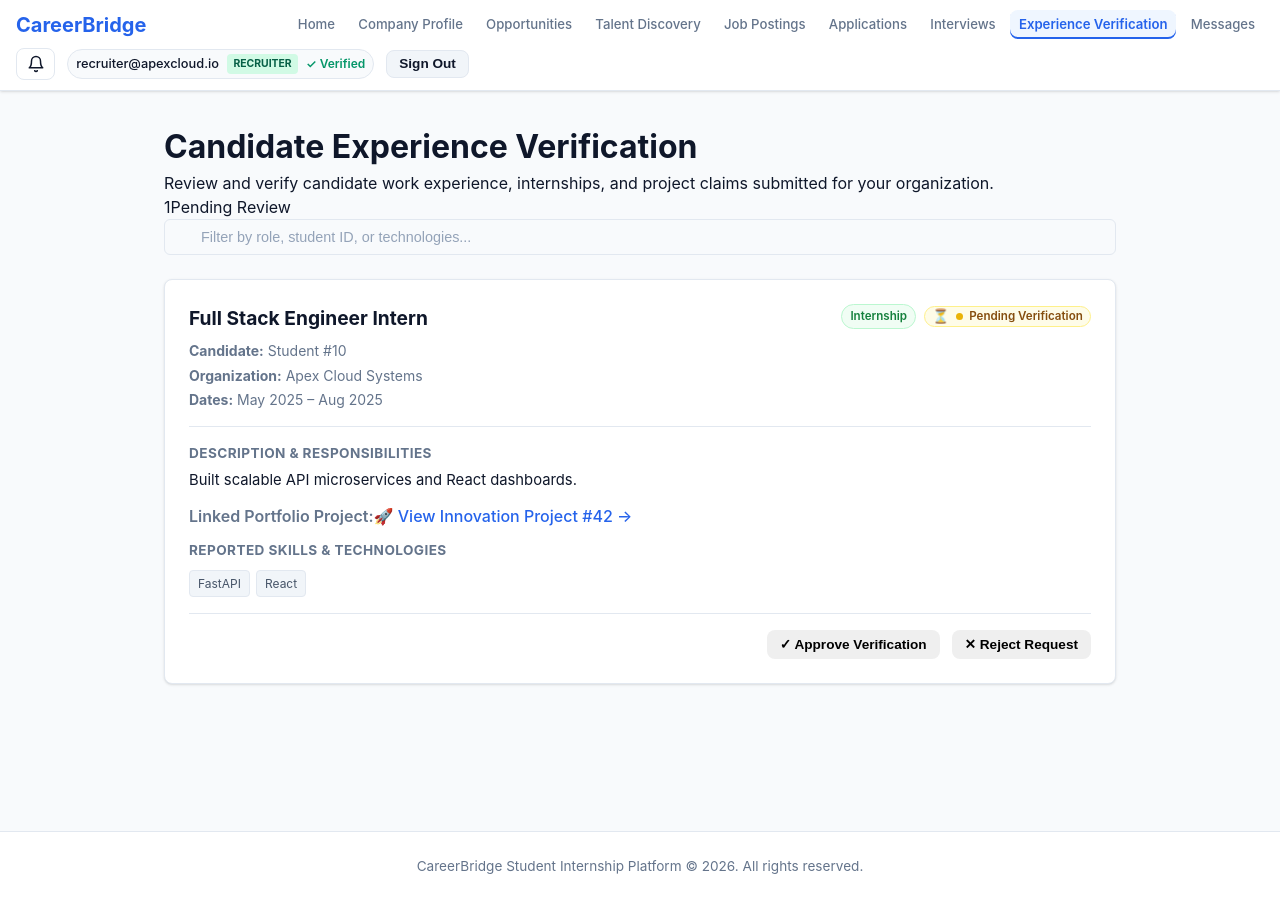
Test case: Verified Experience Full End-to-End Integration Flow (Phase 5) › Flow 2: Recruiter Verification Queue & Decision Workflows › processes rejection with audit notes and clears from queue
This screenshot has width=1280, height=900.
Expected: the heading "Full Stack Engineer Intern" is shown, x1=189 y1=304 x2=428 y2=332
Step 1. Click the button with test id "reject-btn-203" → (1021, 644), box x1=952 y1=630 x2=1091 y2=659
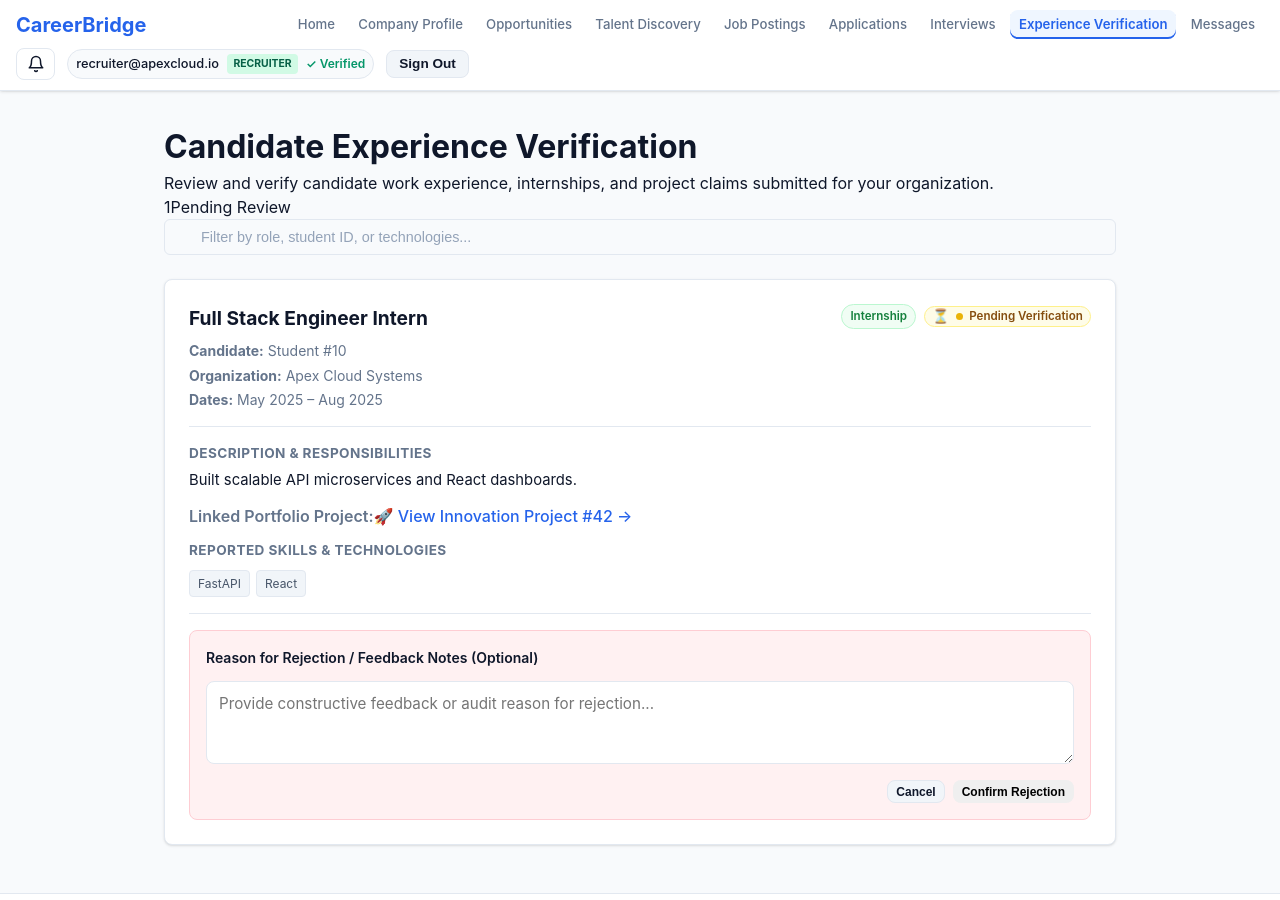
Now the element with test id "rejection-box-203" is shown, box x1=189 y1=630 x2=1091 y2=820
Step 2. Replace the text in the text box labelled "Reason for Rejection / Feedback Notes (Optional)" with "Employment records indicate student finished in April, not August." → (640, 723), box x1=206 y1=681 x2=1074 y2=764
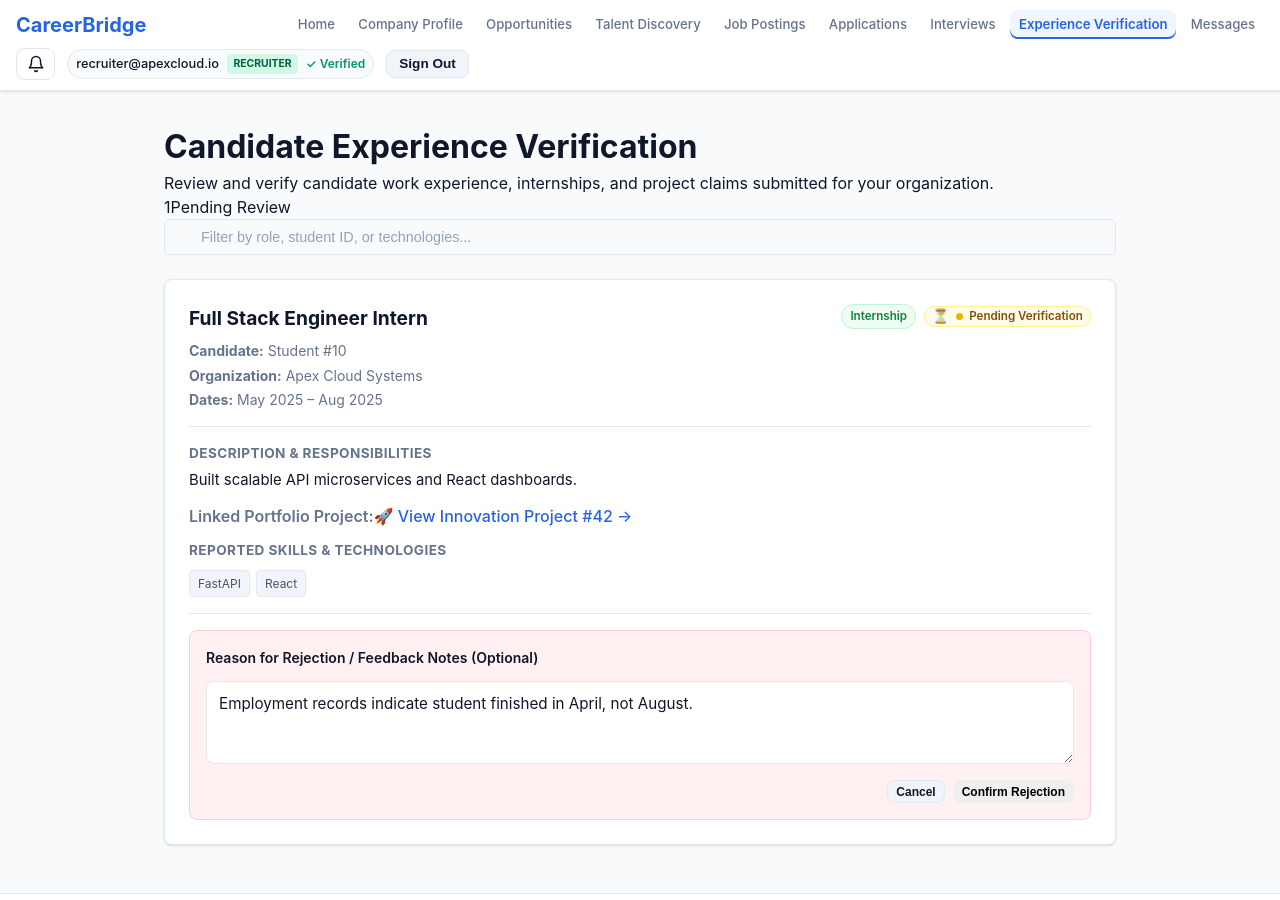
Step 3. Click the button with test id "confirm-reject-btn-203" → (1013, 792), box x1=953 y1=780 x2=1074 y2=803
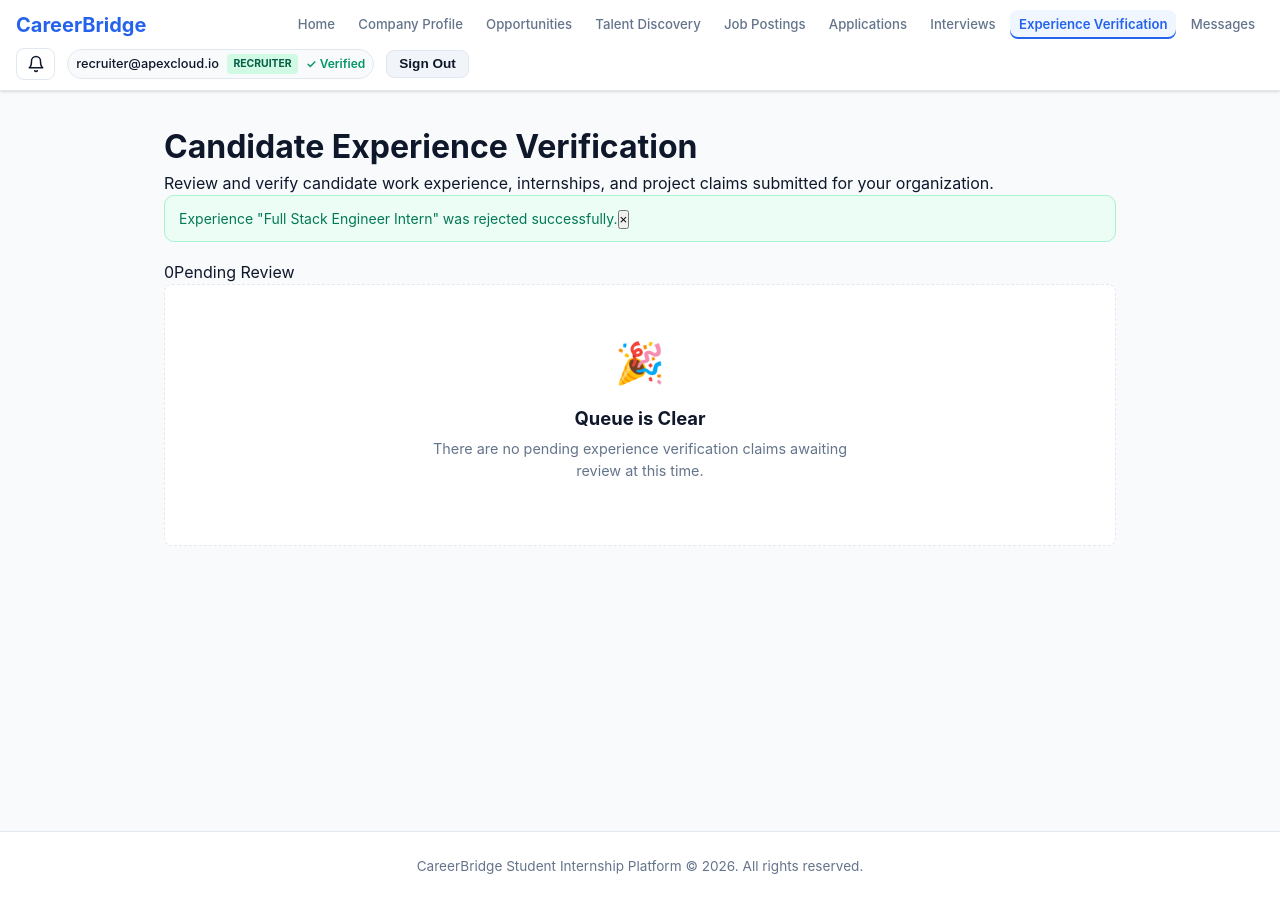
Now the element with test id "verification-request-card-203" is gone
Now the text "Experience \"Full Stack Engineer Intern\" was rejected successfully." is shown, box x1=179 y1=210 x2=618 y2=227
